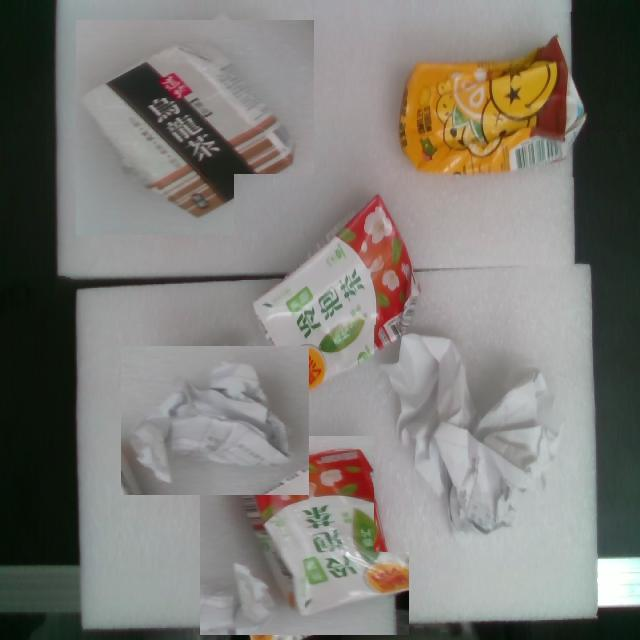juicebox: (76, 10, 314, 258), (216, 174, 462, 409), (200, 435, 429, 640), (396, 13, 598, 178)
paper: (375, 326, 597, 579), (121, 337, 310, 519)
